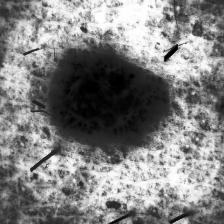Benign Marking or Mole: (52, 51, 169, 140)
